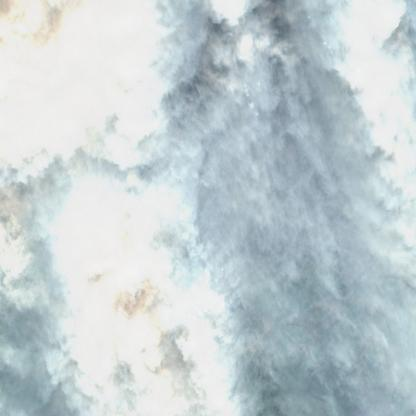fire: (35, 0, 222, 412)
